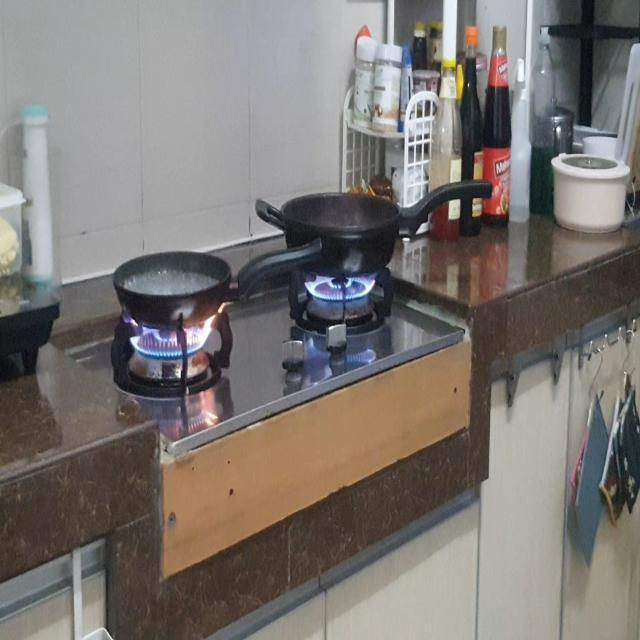Flame: (130, 326, 211, 355), (305, 273, 387, 298)
Pan: (285, 193, 408, 281), (109, 248, 241, 329)
